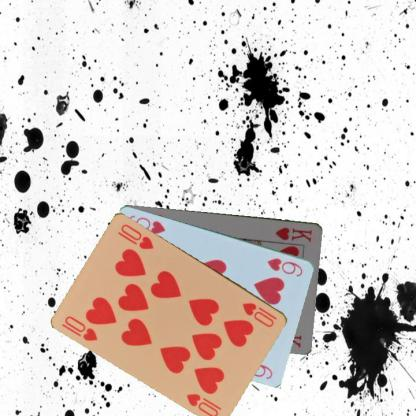10h: (240, 299, 278, 329), (62, 313, 100, 343)
6h: (264, 255, 304, 278)
Kh: (273, 224, 313, 243)
